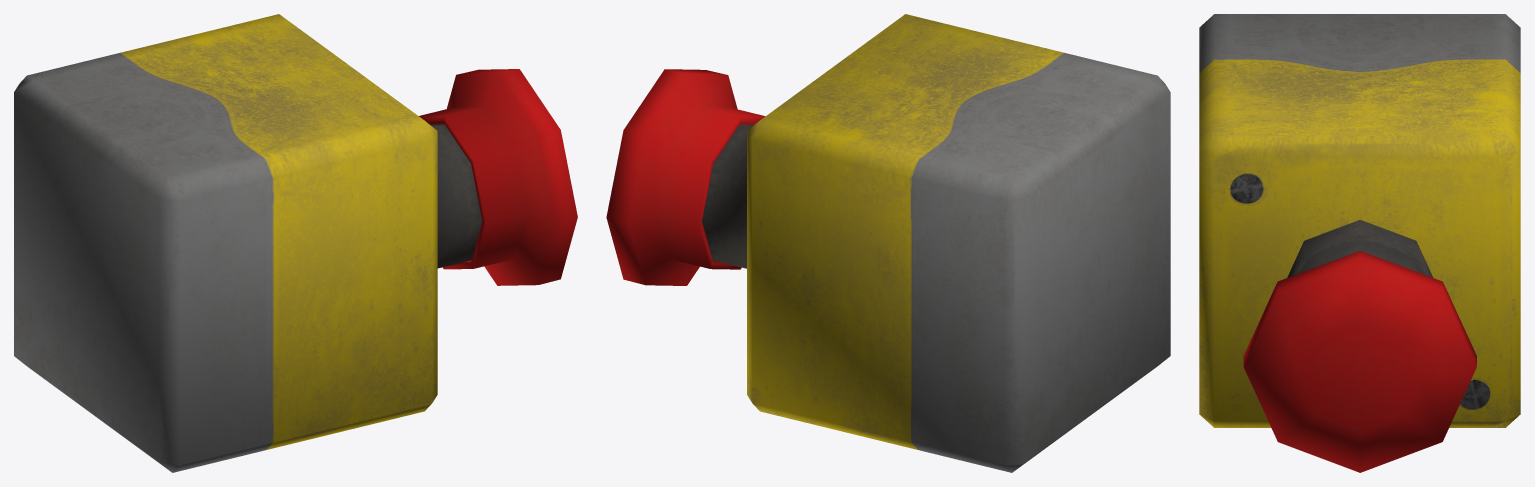
The model's file is EmergencyLowPoly.fbx.
The picture shows the model from 3 angles, left to right: view 1: azimuth 30°, elevation 25°; view 2: azimuth 150°, elevation 25°; view 3: azimuth 270°, elevation 25°; orthographic projection.
Visible parts, largest first — view 1: Boitier, Bouton, PoussoirFrame; view 2: Boitier, Bouton, PoussoirFrame; view 3: Boitier, Bouton, PoussoirFrame.
Boxes of the visible parts, <box> form: Boitier: <box>14,14,437,472</box>; Bouton: <box>419,69,577,285</box>; PoussoirFrame: <box>430,124,482,268</box>; Boitier: <box>747,14,1170,472</box>; Bouton: <box>606,69,765,285</box>; PoussoirFrame: <box>702,124,753,268</box>; Boitier: <box>1199,14,1520,427</box>; Bouton: <box>1243,250,1476,472</box>; PoussoirFrame: <box>1287,219,1433,277</box>.
Size of the model in its own units: 335 by 207 by 207.
